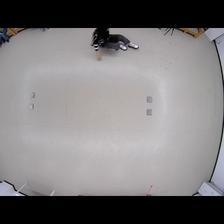fall: (89, 28, 140, 61)
